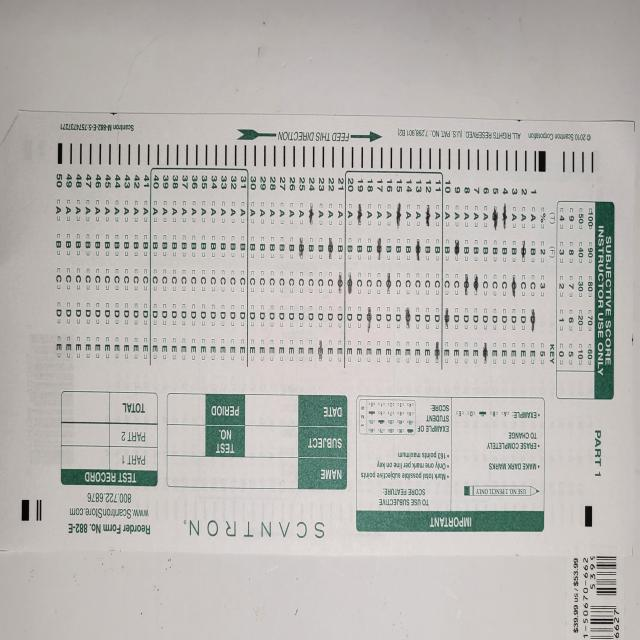scantron: (1, 109, 634, 559)
